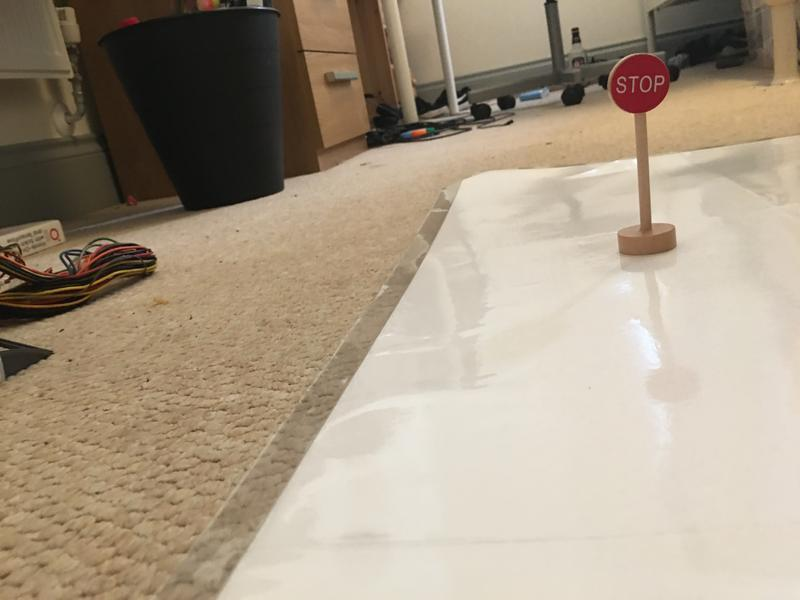Traffic_Sign_Stop: (611, 54, 670, 113)
